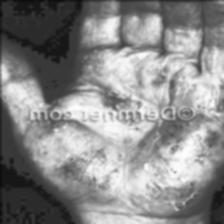Non-Cancerous Skin Condition: (134, 60, 224, 213), (55, 134, 116, 188)
